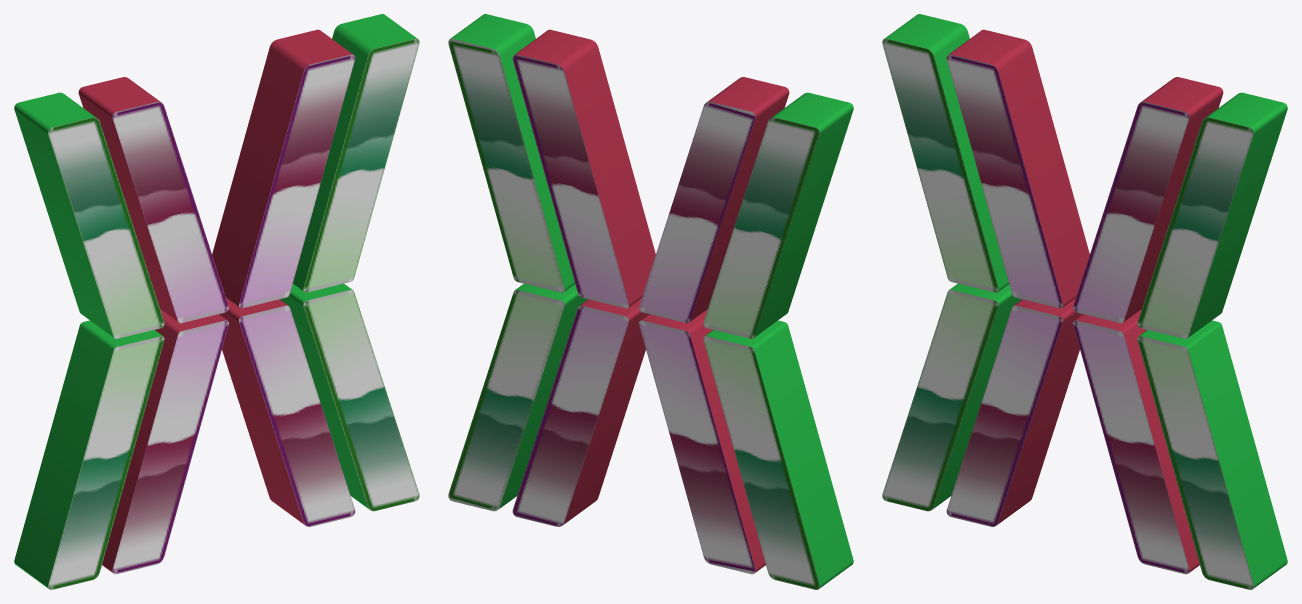
The model's file is BETTERSOUNDS.glb.
3 renders of one model, left to right at view 1: azimuth 30°, elevation 25°; view 2: azimuth 150°, elevation 25°; view 3: azimuth 330°, elevation 25°, orthographic.
Parts seen in each view (by area): view 1: uright; view 2: uright; view 3: uright.
Boxes of the visible parts, left/top/right/bottom form: uright: left=14, top=14, right=419, bottom=589; uright: left=448, top=14, right=853, bottom=589; uright: left=882, top=14, right=1287, bottom=589.
Size of the model in its own units: 0.4244 by 0.5047 by 0.067.
Materials: 6 (4 with a texture image).
